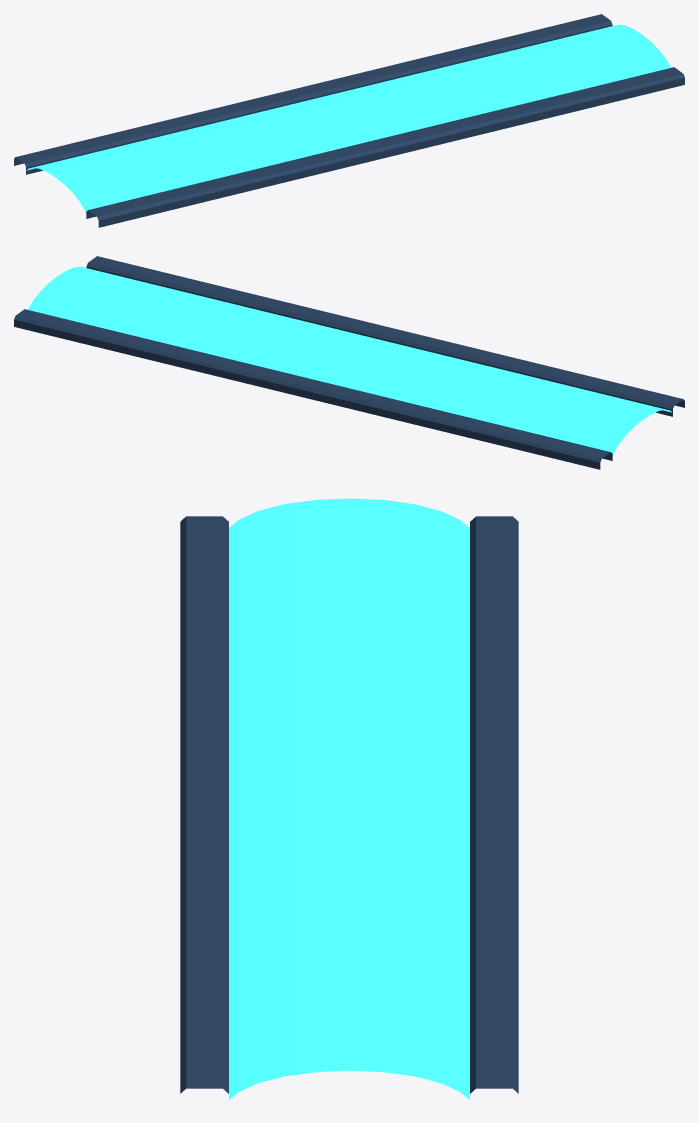
File: Light_Trim_01_Straight_40.fbx
3 renders of one model, top to bottom at view 1: azimuth 30°, elevation 25°; view 2: azimuth 150°, elevation 25°; view 3: azimuth 270°, elevation 25°, orthographic. The views are drawn at different scales.
Parts seen in each view (by area): view 1: Light_Trim_01_Straight_40.001; view 2: Light_Trim_01_Straight_40.001; view 3: Light_Trim_01_Straight_40.001.
Part boxes in pixels (box(x1,y1,x2,y2)): Light_Trim_01_Straight_40.001: box(14, 14, 684, 227); Light_Trim_01_Straight_40.001: box(14, 256, 684, 469); Light_Trim_01_Straight_40.001: box(180, 498, 518, 1099).
Size of the model in its own units: 0.4 by 0.0123 by 0.1.
